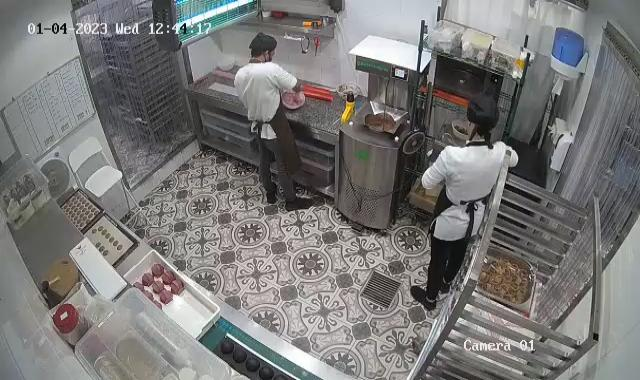no_hairnet: (464, 96, 500, 132), (248, 32, 276, 61)
